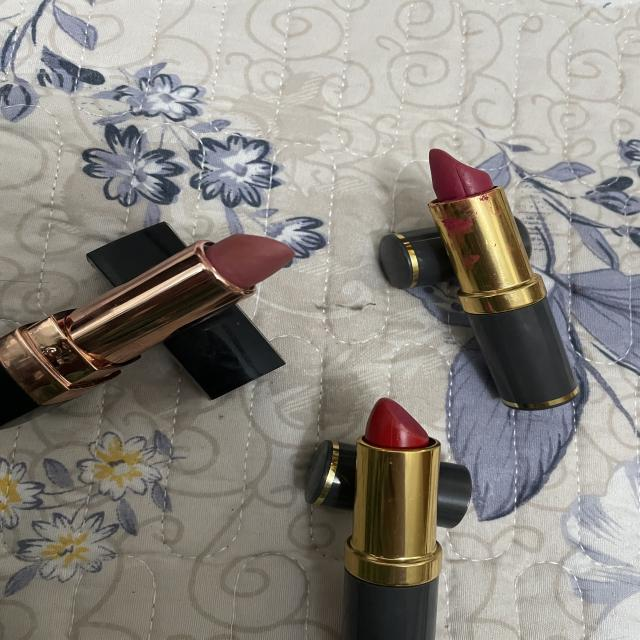lip stick: (0, 204, 320, 446), (413, 132, 640, 417), (326, 375, 454, 640)
